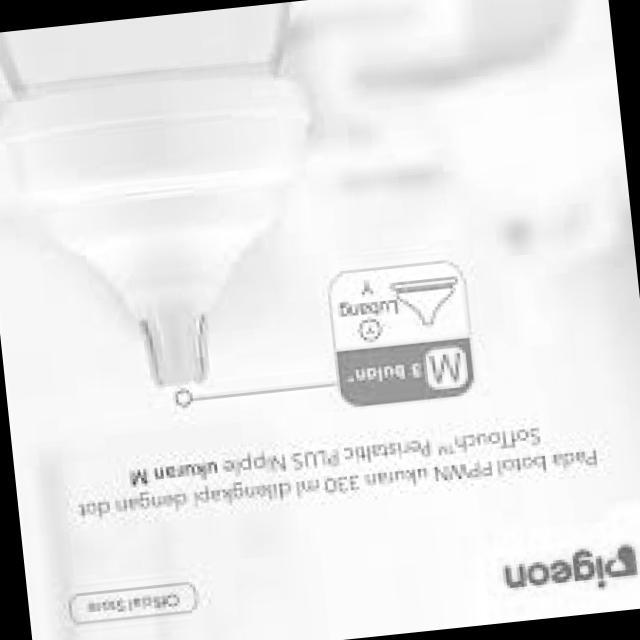good: (0, 49, 320, 416)
